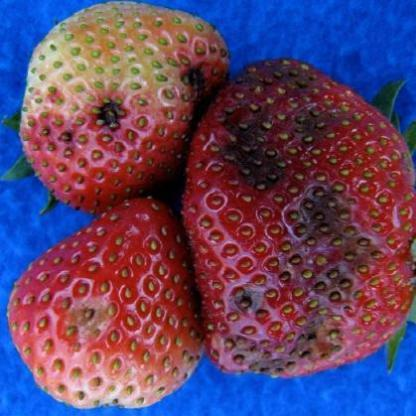Strawberry_Anthracnose_Fruit_Rot: (209, 58, 394, 379), (48, 284, 124, 350), (84, 90, 134, 139)
